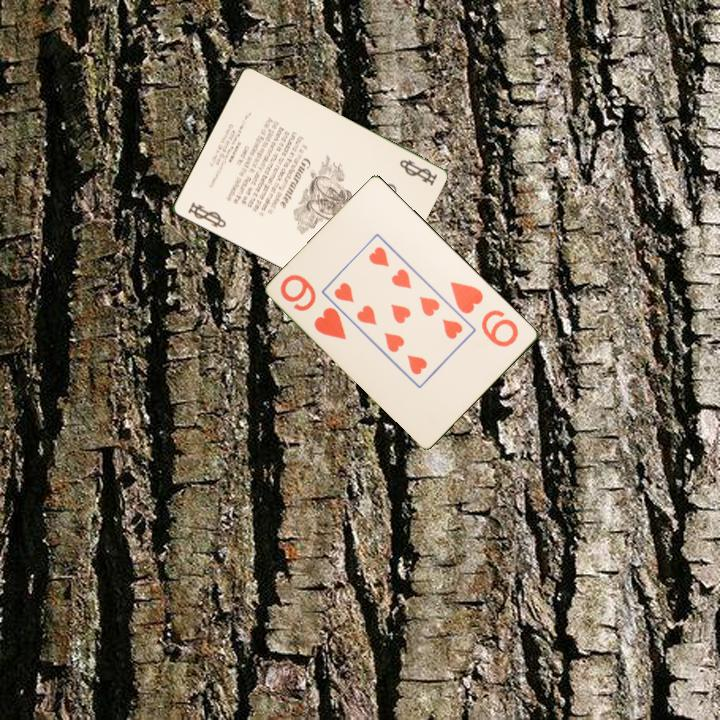9h: (447, 278, 522, 350), (277, 271, 350, 343)
JK: (395, 156, 440, 189), (184, 199, 229, 231)
